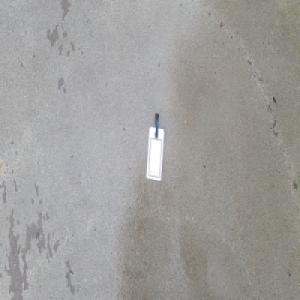LuggageTag: (145, 112, 166, 183)
